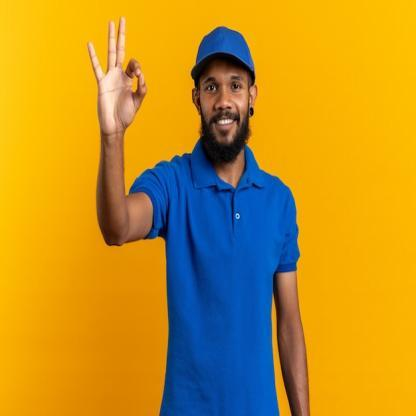ok: (86, 12, 145, 136)
